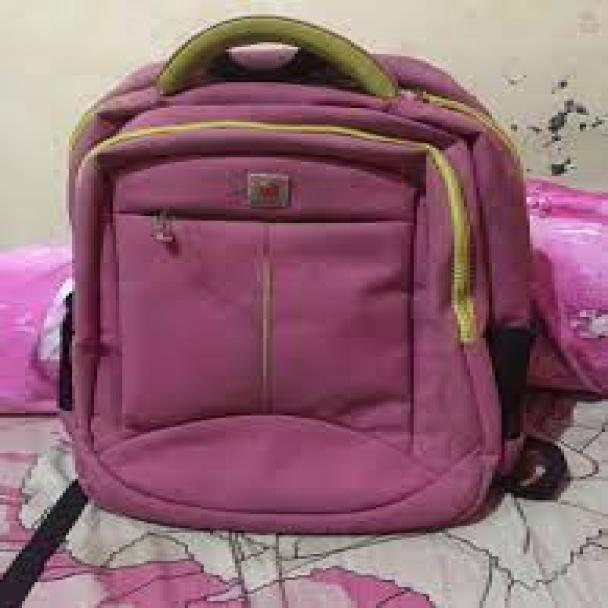Tas: (64, 47, 530, 534)
